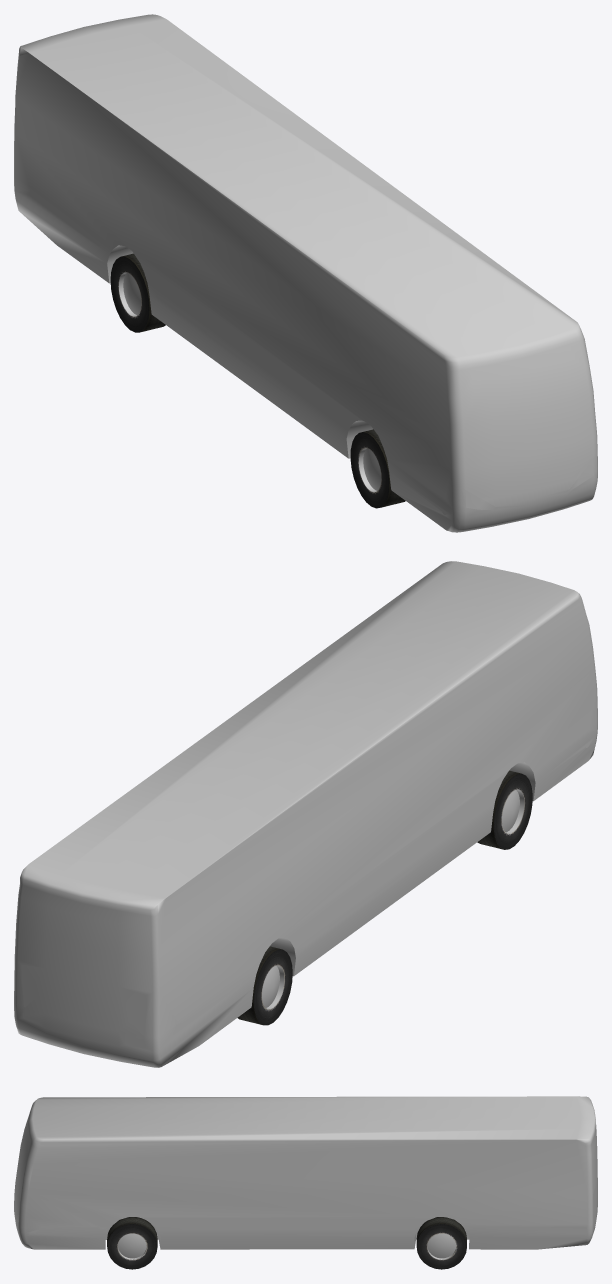
File: BusCaio.fbx
3 views of the same model, one above another, from view 1: azimuth 30°, elevation 25°; view 2: azimuth 150°, elevation 25°; view 3: azimuth 270°, elevation 25° (orthographic). The views are drawn at different scales.
Parts seen in each view (by area): view 1: BUS, BR, FR, BUS.Emission; view 2: BUS, FR, BR, BUS.Emission; view 3: BUS, FL, BL, BUS.Emission.
Part boxes in pixels (<box>): BUS: <box>14,14,597,532</box>; BR: <box>110,253,165,332</box>; FR: <box>350,429,405,508</box>; BUS.Emission: <box>29,188,594,515</box>; BUS: <box>14,561,597,1067</box>; FR: <box>477,770,532,849</box>; BR: <box>237,946,292,1025</box>; BUS.Emission: <box>22,726,589,1047</box>; BUS: <box>14,1096,597,1249</box>; FL: <box>107,1217,157,1269</box>; BL: <box>416,1217,466,1269</box>; BUS.Emission: <box>15,1196,595,1234</box>.
Bounding box in the file's own units: 2.15 × 2.81 × 11.51.
